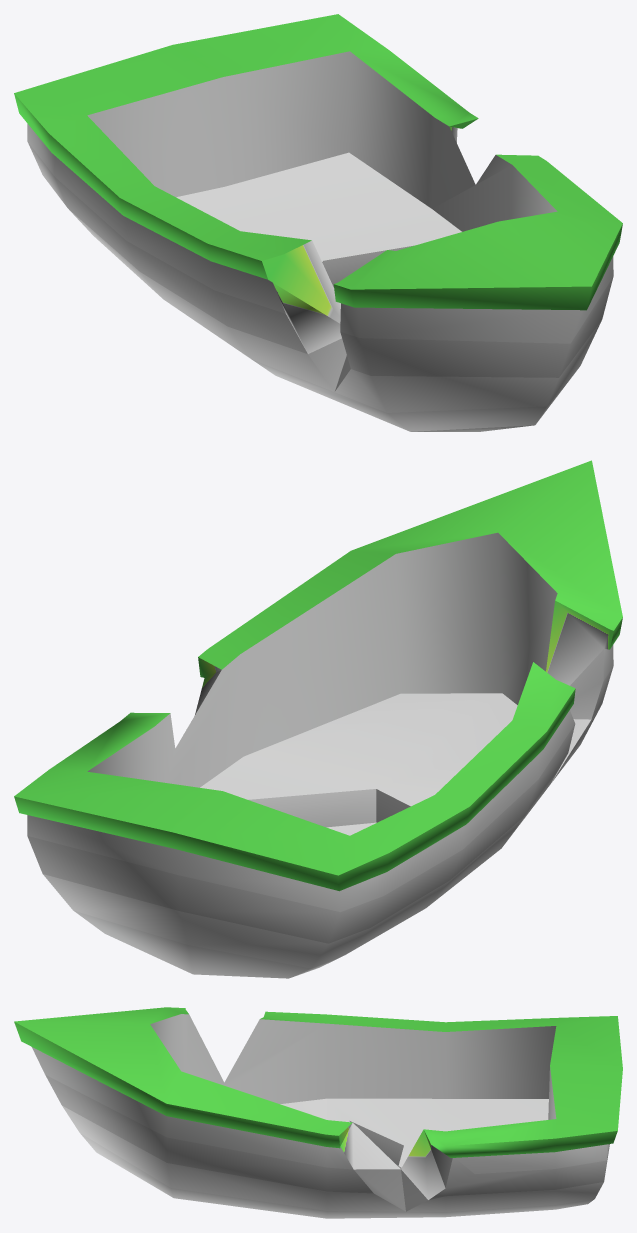
File: TrashBoat.fbx
The picture shows the model from 3 angles, top to bottom: view 1: azimuth 30°, elevation 25°; view 2: azimuth 150°, elevation 25°; view 3: azimuth 270°, elevation 25°; orthographic projection. The views are drawn at different scales.
Visible parts, largest first — view 1: Boat; view 2: Boat; view 3: Boat.
Boxes of the visible parts, bbox=[...] form: Boat: bbox=[14, 14, 622, 431]; Boat: bbox=[14, 460, 622, 978]; Boat: bbox=[14, 1007, 622, 1218].
Size of the model in its own units: 109 by 226 by 71.63.
